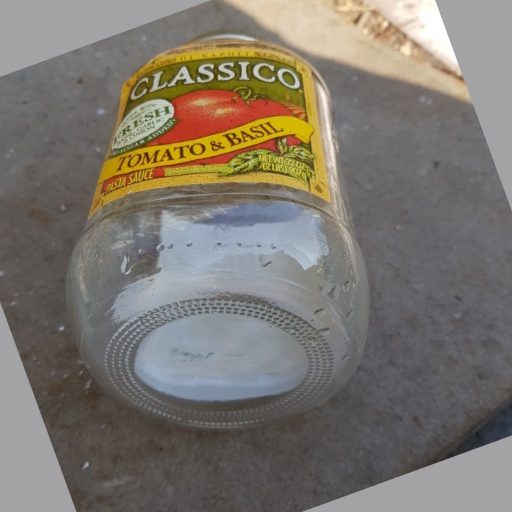Glass_5: (76, 31, 371, 425)
